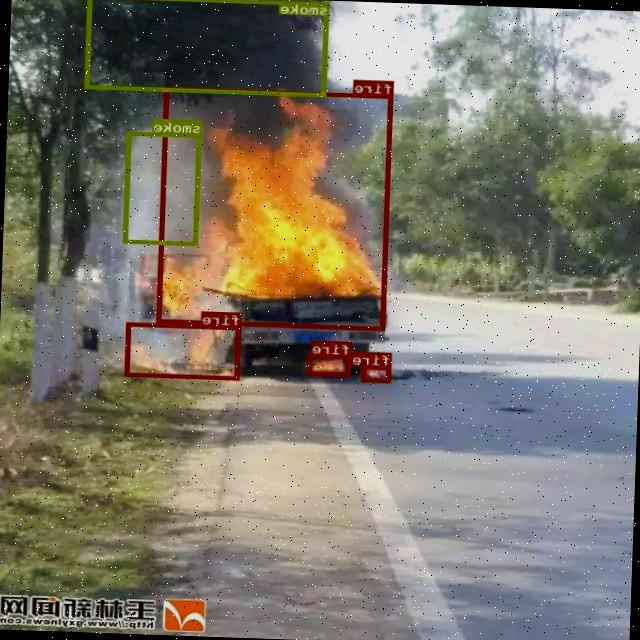fire: (157, 86, 394, 330), (125, 322, 242, 379), (308, 354, 352, 376), (362, 364, 392, 382)
smoke: (85, 0, 329, 95), (123, 130, 203, 245)
